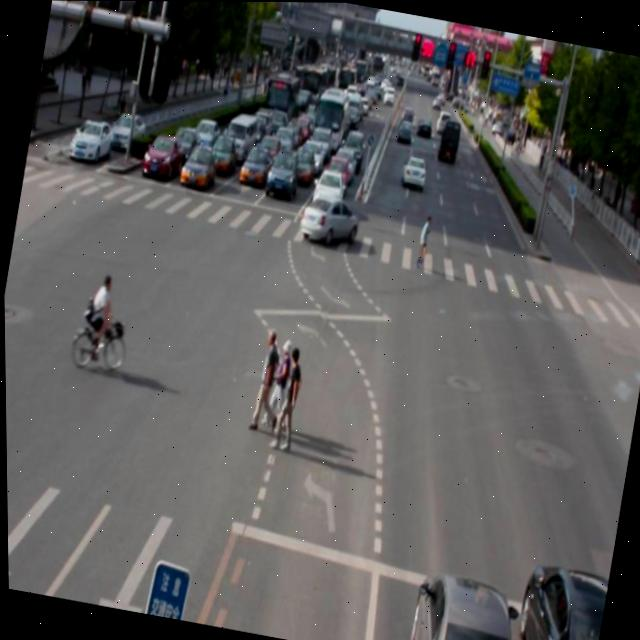car: (402, 566, 524, 640), (505, 557, 608, 640), (296, 190, 360, 248)
